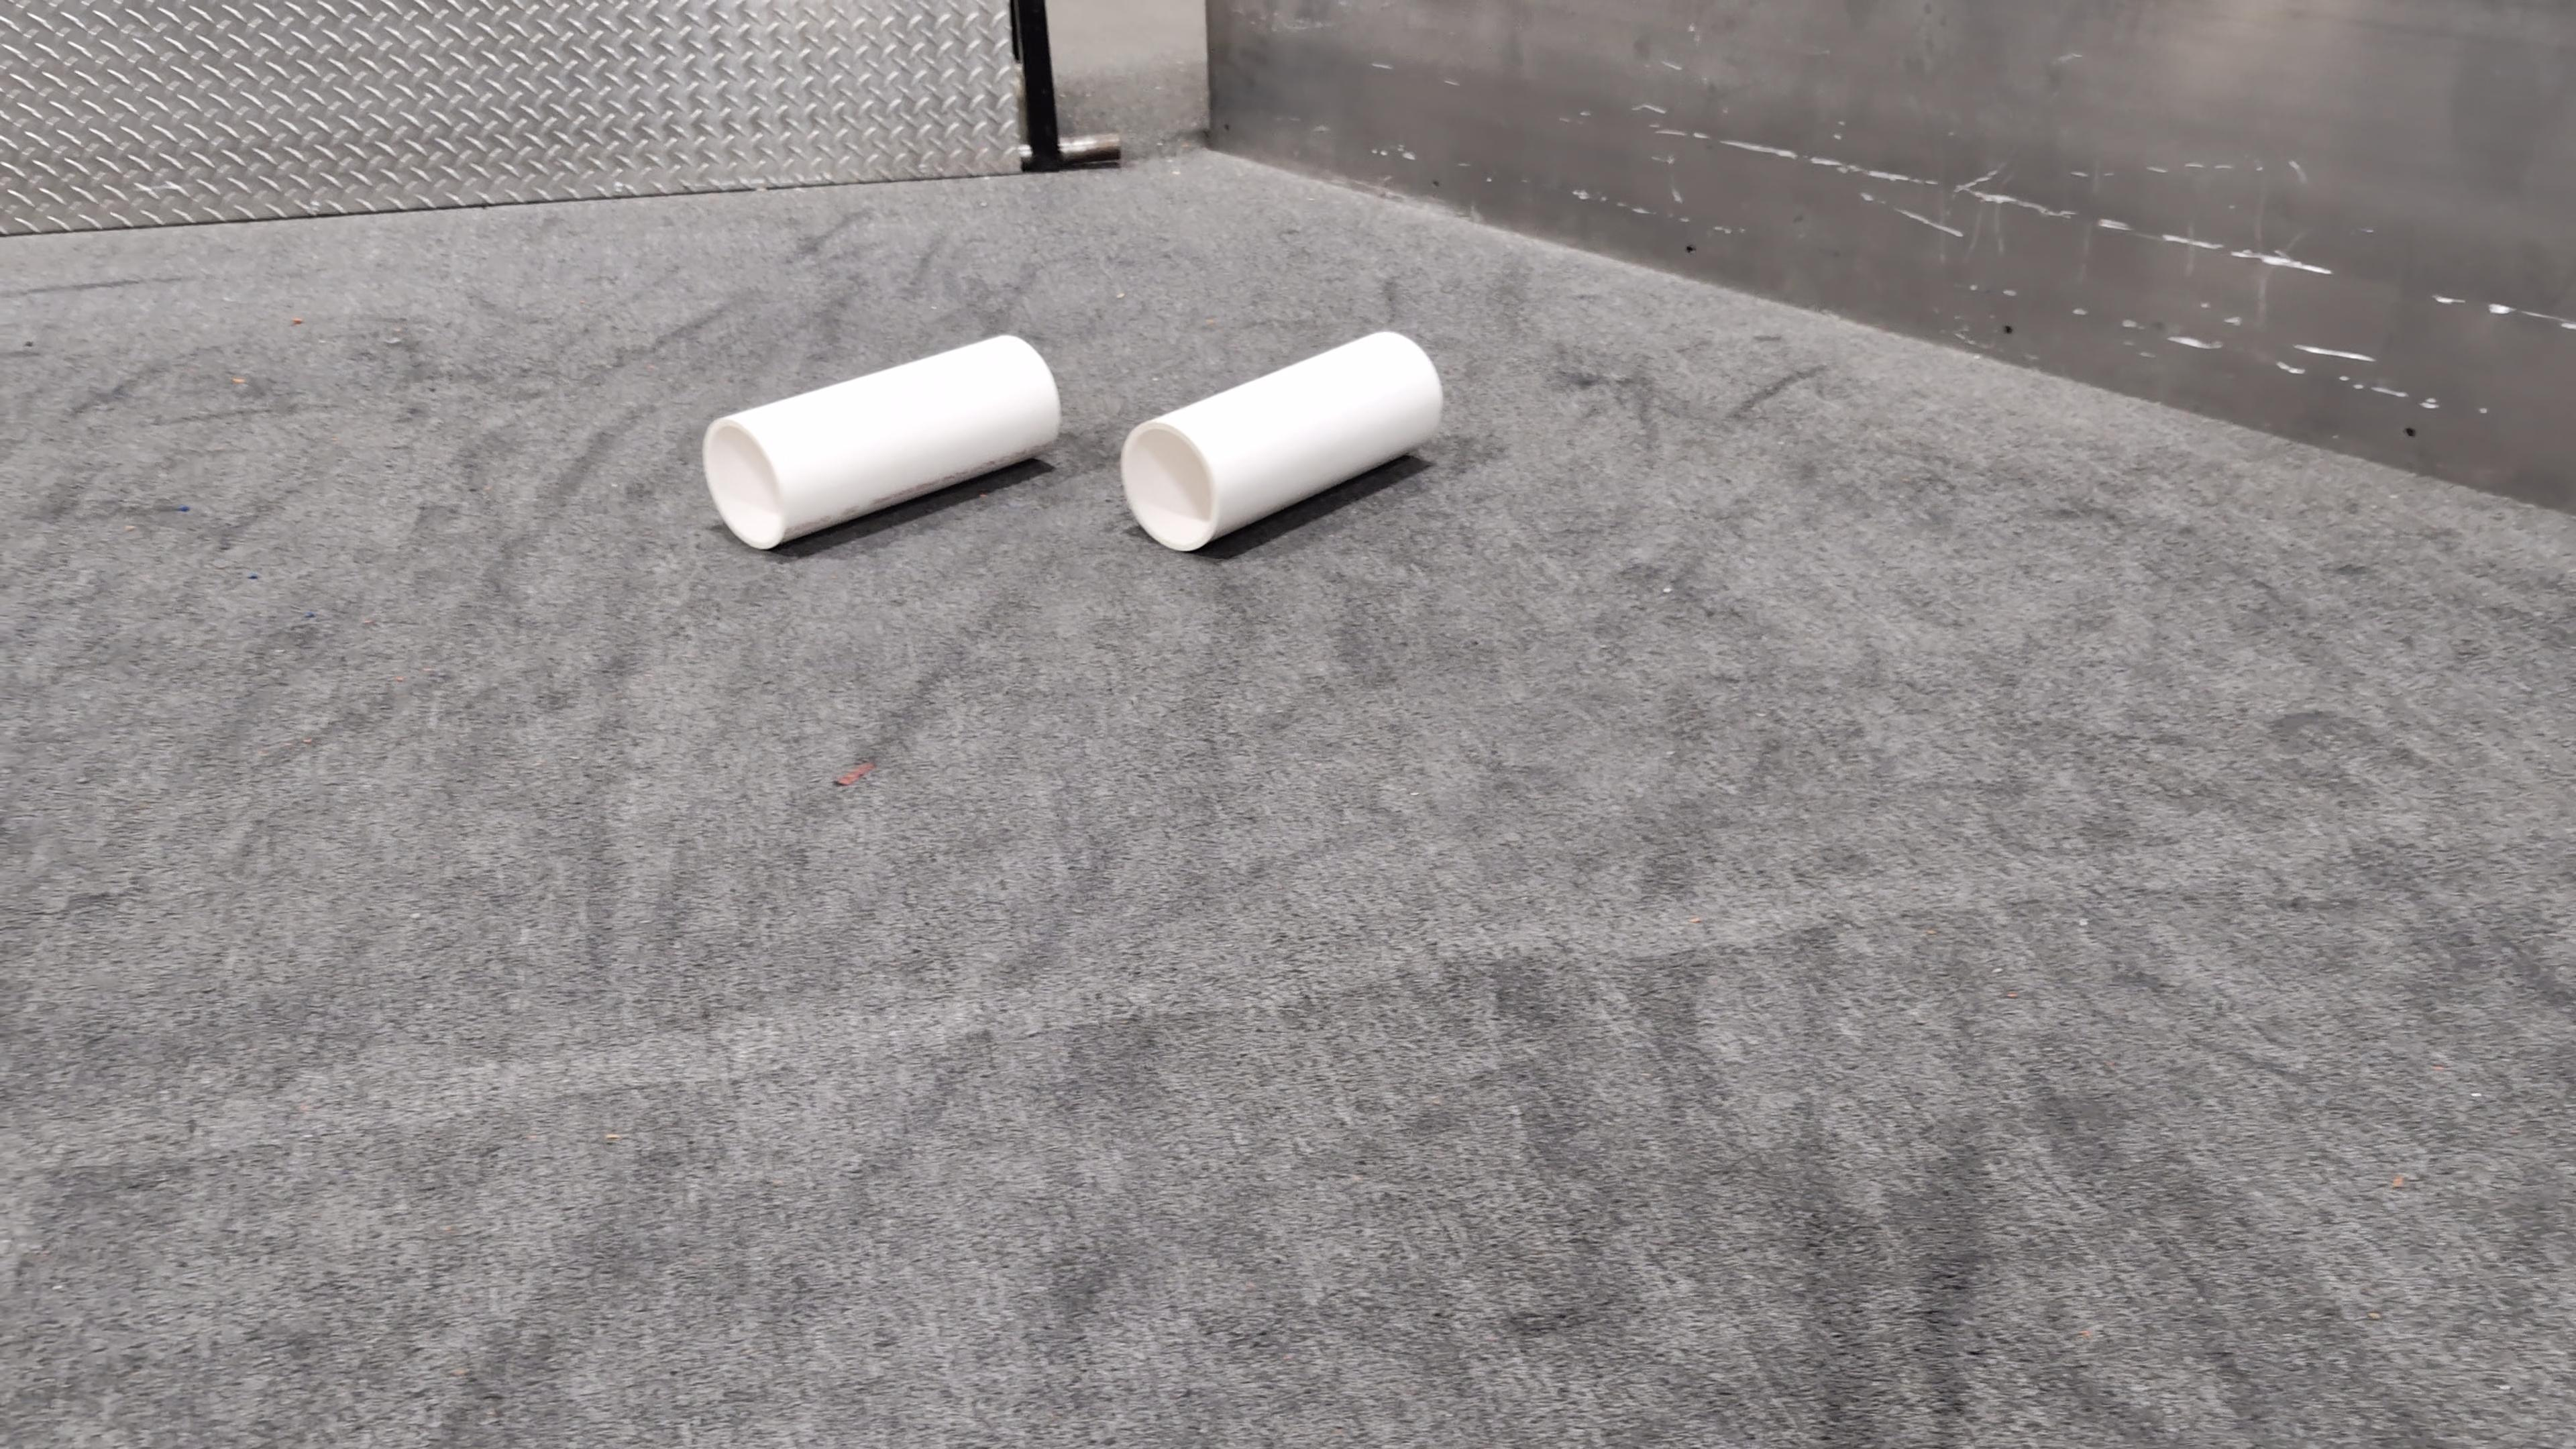coral: (702, 331, 1062, 550), (1118, 326, 1447, 554)
